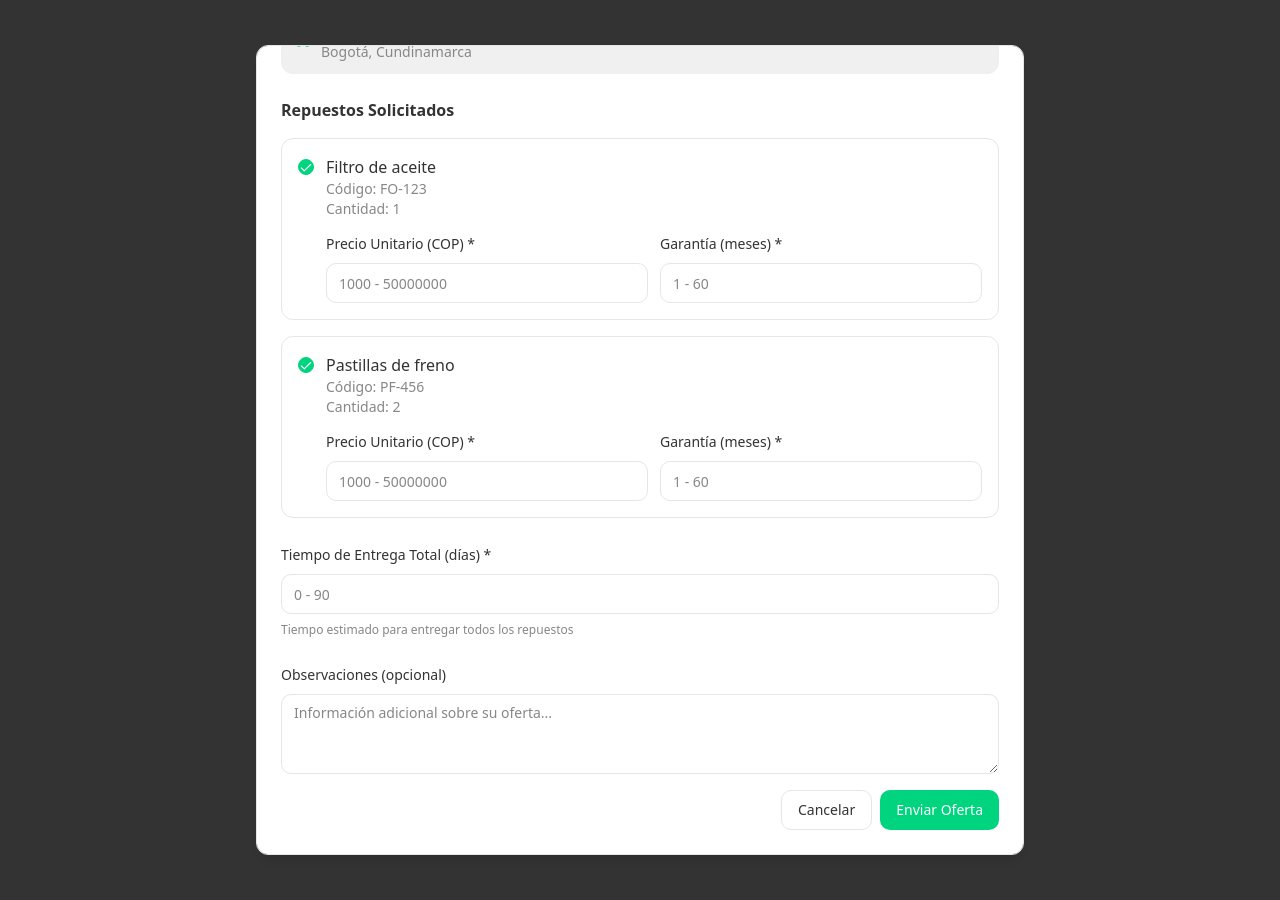
OfertaIndividualModal › validates required fields
(page scrolled)
Click the button "Enviar Oferta" at (940, 810), box [880,790,999,830]
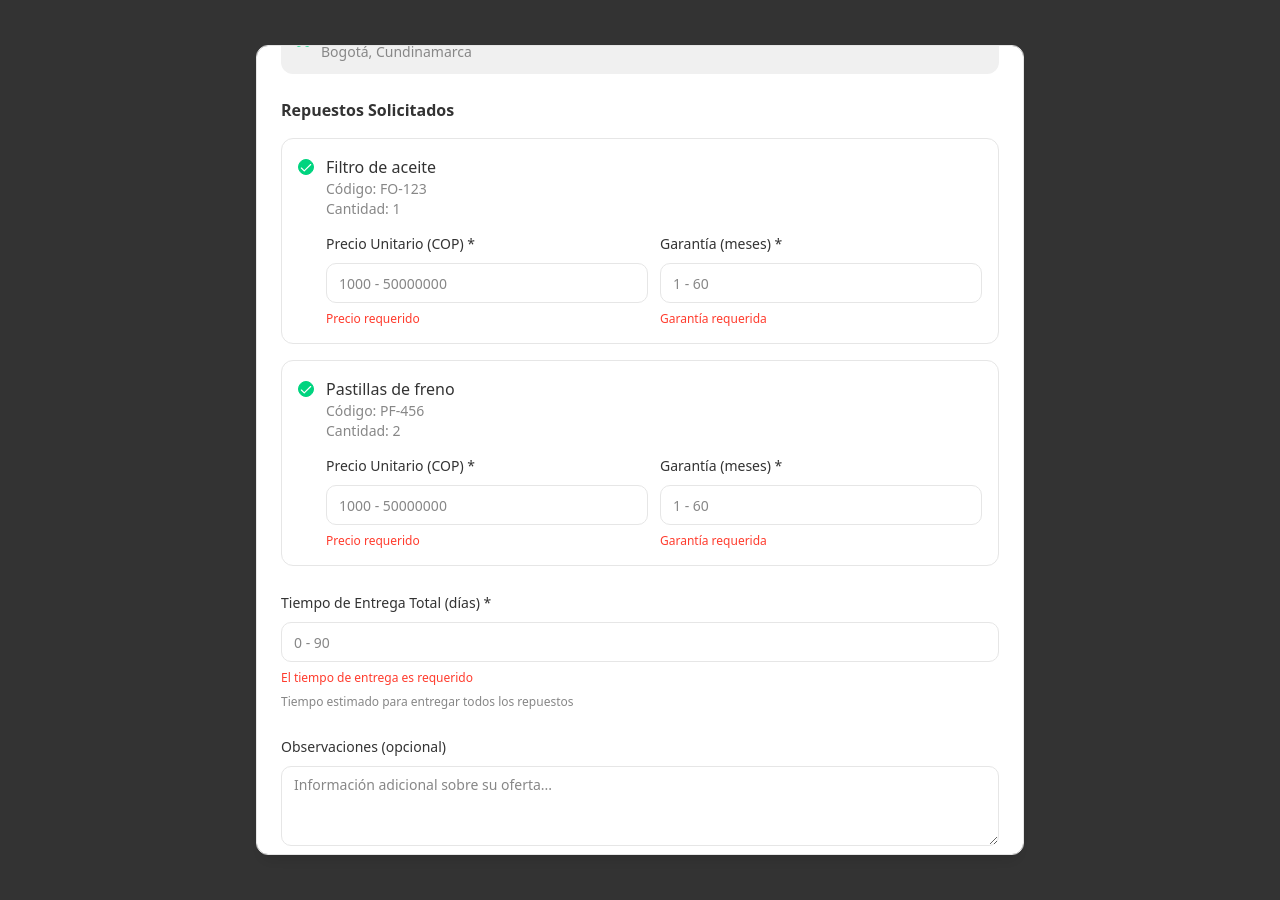
Expected: the text "El tiempo de entrega es requerido" is shown, [281,669,473,686]
